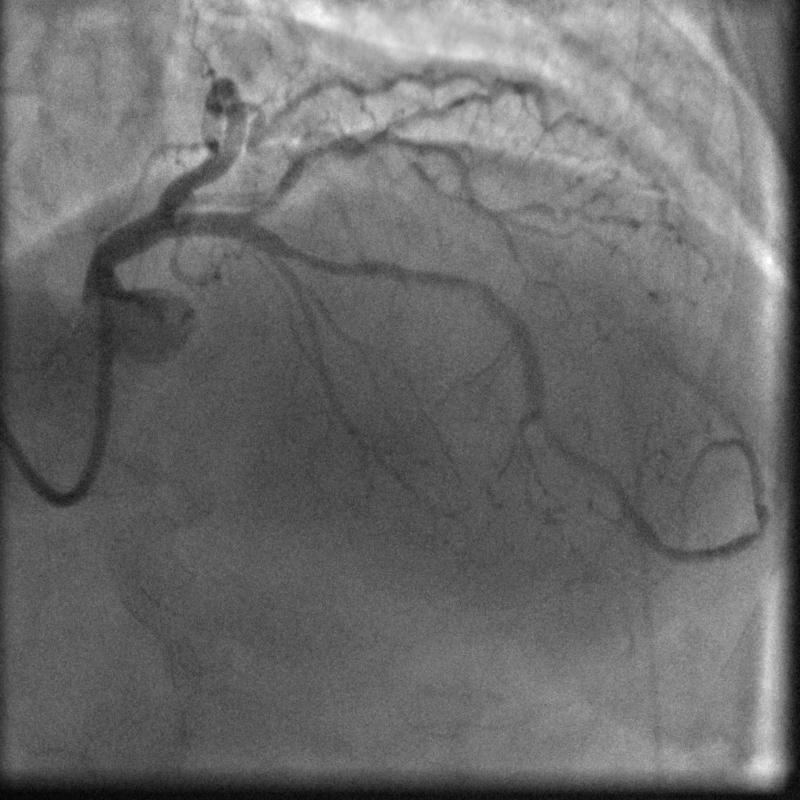Stenosis: (292, 239, 354, 283)
